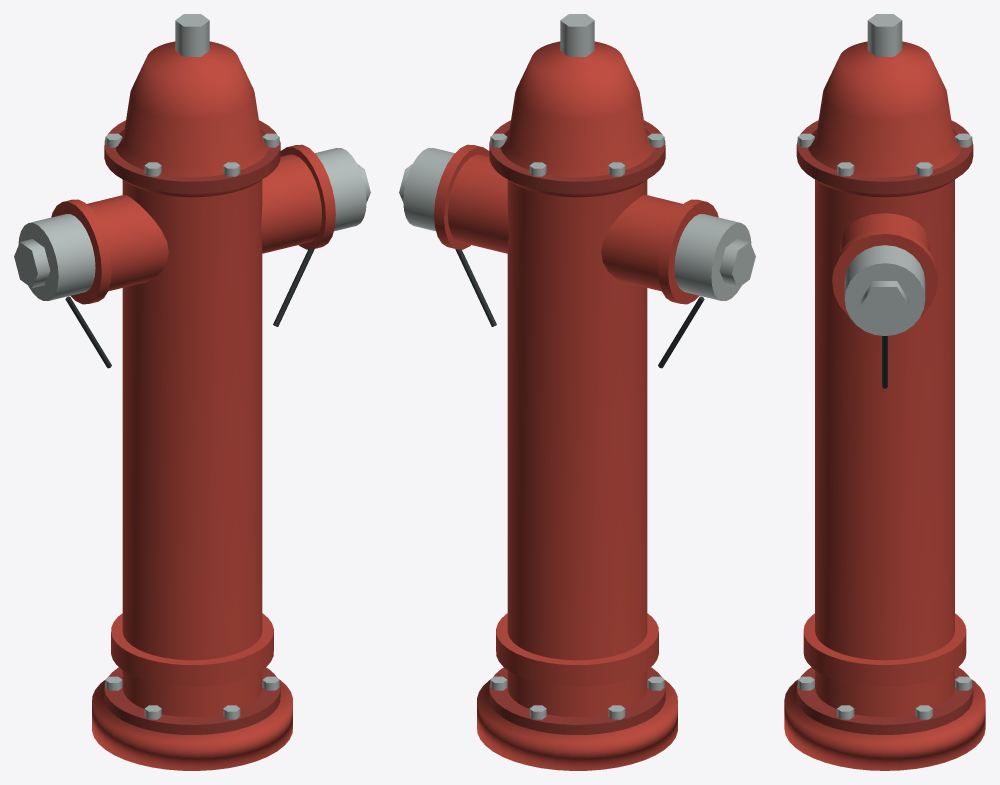
The model's file is hydrant-approved-v1.glb.
3 renders of one model, left to right at view 1: azimuth 30°, elevation 25°; view 2: azimuth 150°, elevation 25°; view 3: azimuth 270°, elevation 25°, orthographic.
Visible parts, largest first — view 1: 지상식 양구 소화전; view 2: 지상식 양구 소화전; view 3: 지상식 양구 소화전.
Boxes of the visible parts, box(x1,y1,x2,y2) form: 지상식 양구 소화전: box(14, 14, 370, 770); 지상식 양구 소화전: box(399, 14, 755, 770); 지상식 양구 소화전: box(784, 14, 985, 770).
Size of the model in its own units: 0.401 by 0.815 by 0.21.
